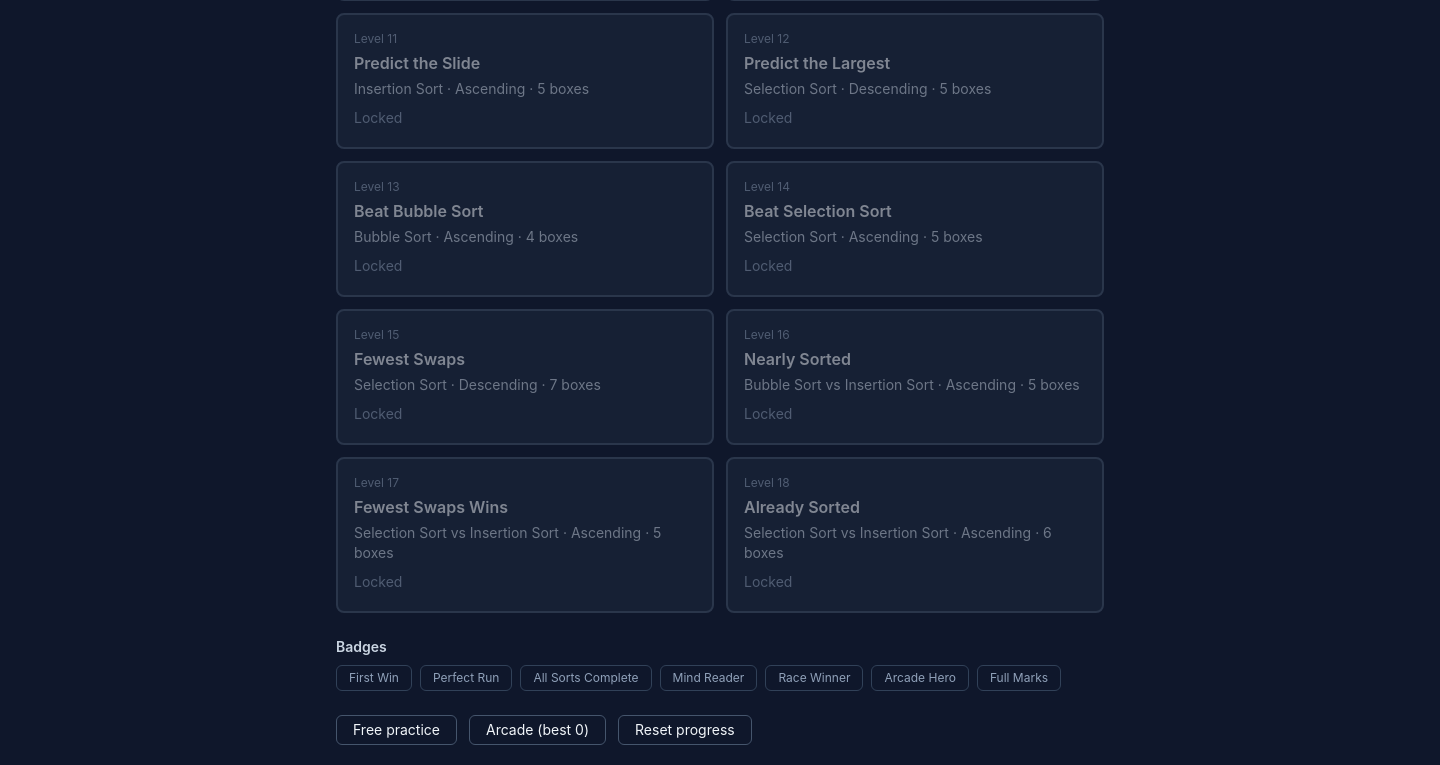
Test case: App › opens free practice and comes back
This screenshot has width=1440, height=765.
(page scrolled)
Click the button "Free practice": [396, 730] box [336,715,457,745]
(page scrolled)
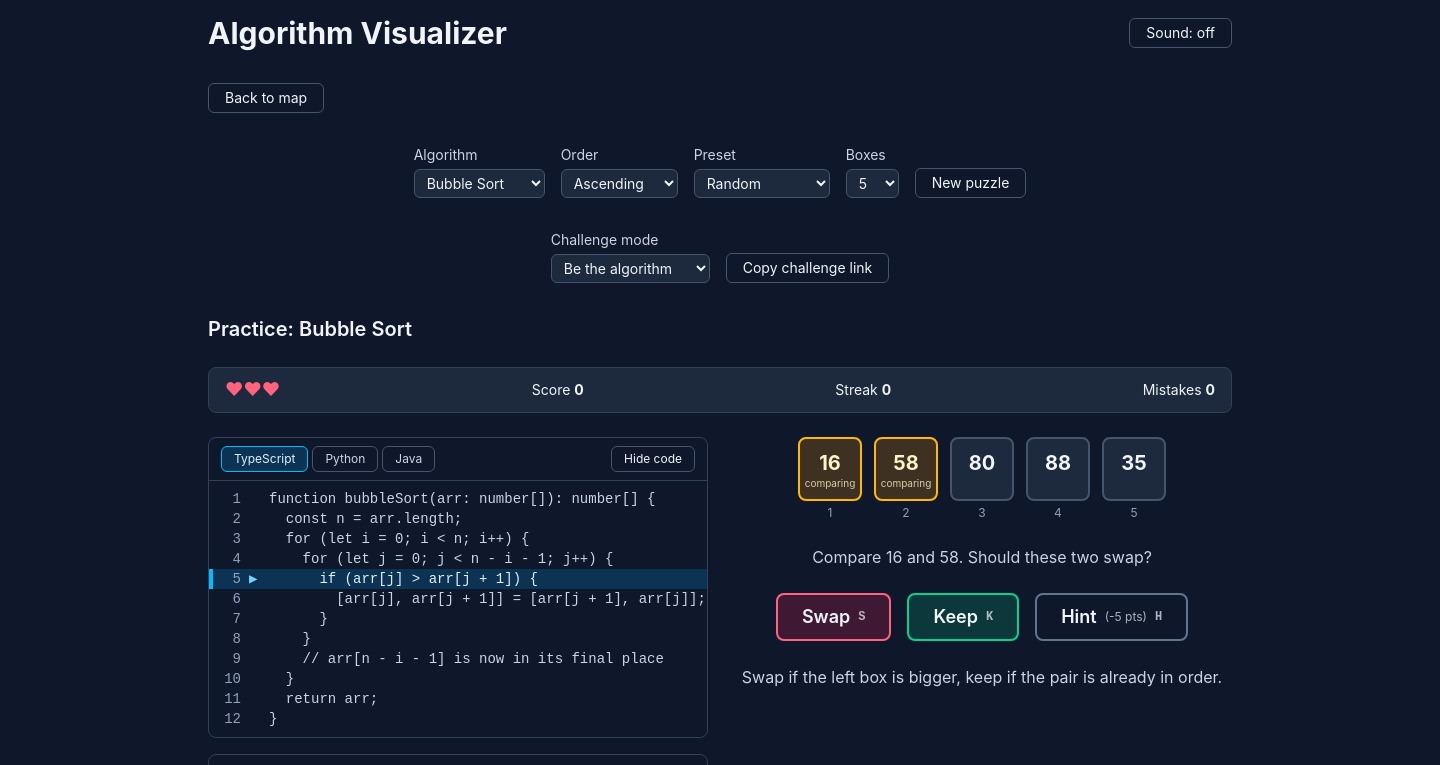
Now the element named "Practice setup" is shown, box [414,145,1026,198]
Click the button "Back to map": [266, 98] box [208,83,324,113]
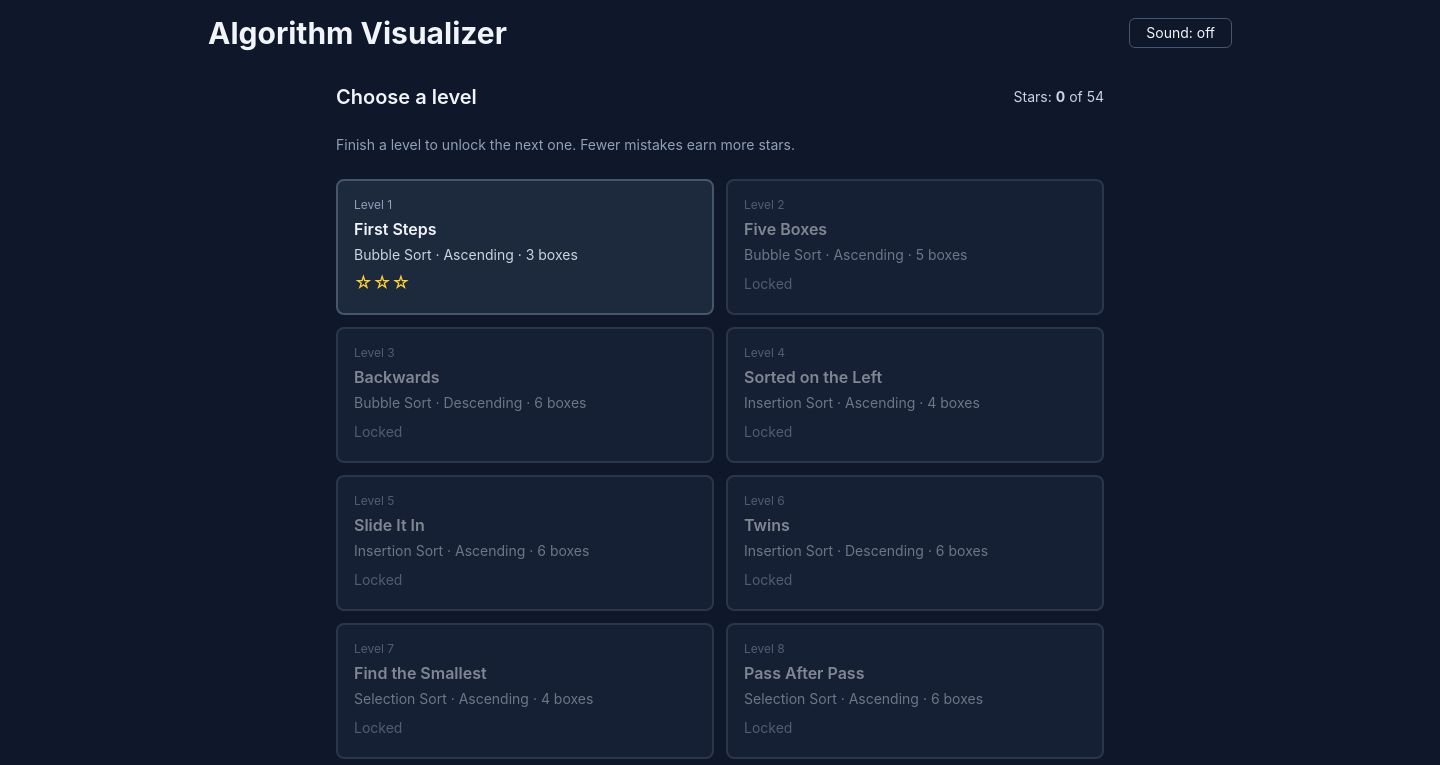
Now the heading "Choose a level" is shown, box [336,83,477,111]
